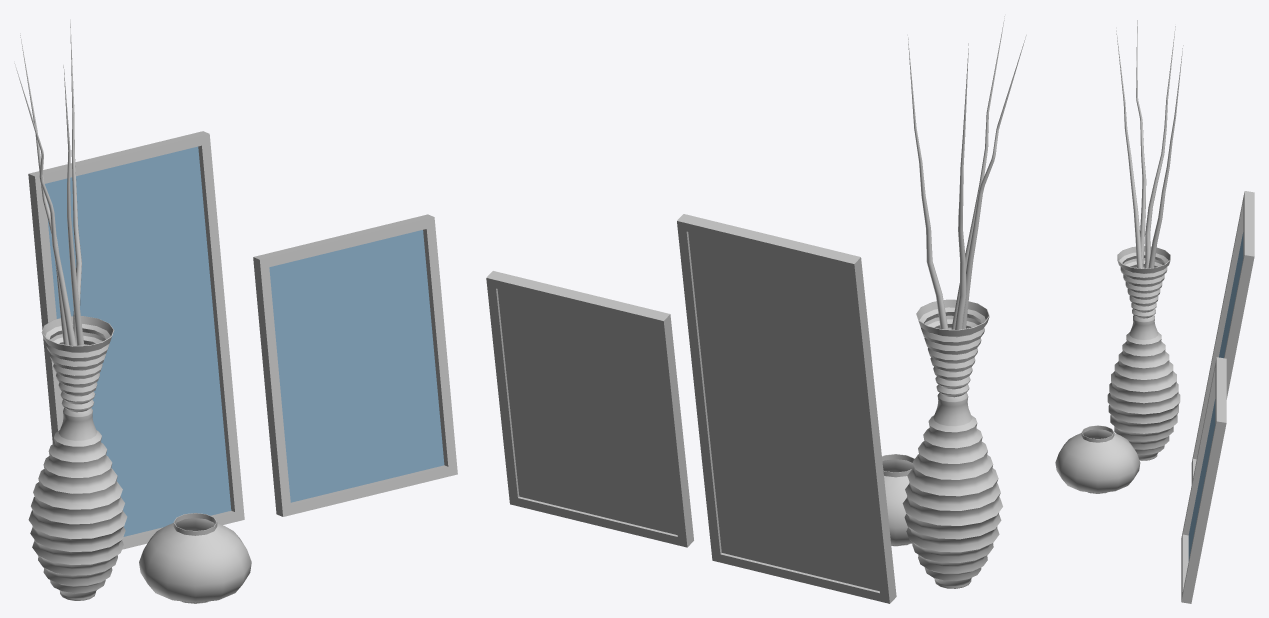
Rendered from Decorative set.fbx.
3 renders of one model, left to right at view 1: azimuth 30°, elevation 25°; view 2: azimuth 150°, elevation 25°; view 3: azimuth 270°, elevation 25°, orthographic. The views are drawn at different scales.
Parts seen in each view (by area): view 1: Glass_2, Glass, Vase__1, Photo_frame_2, Photo_frame_1, Vase__2, Wood_sticks; view 2: Photo_frame_1, Photo_frame_2, Vase__1, Wood_sticks, Vase__2; view 3: Vase__1, Vase__2, Photo_frame_2, Photo_frame_1, Wood_sticks, Glass, Glass_2.
Boxes of the visible parts, x1,y1,x2,y2 form: Glass_2: (45,146,231,536); Glass: (269,230,444,502); Vase__1: (28,316,127,600); Photo_frame_2: (253,214,457,516); Photo_frame_1: (28,131,244,549); Vase__2: (139,513,251,603); Wood_sticks: (14,19,84,345); Photo_frame_1: (677,214,896,603); Photo_frame_2: (486,271,693,547); Vase__1: (902,299,1002,588); Wood_sticks: (908,16,1026,329); Vase__2: (882,454,914,546); Vase__1: (1107,246,1180,460); Vase__2: (1055,425,1140,493); Photo_frame_2: (1181,357,1226,603); Photo_frame_1: (1191,191,1254,484); Wood_sticks: (1116,20,1183,268); Glass: (1188,399,1215,560); Glass_2: (1219,232,1243,358).
Size of the model in its own units: 81.19 by 90.89 by 39.3.
